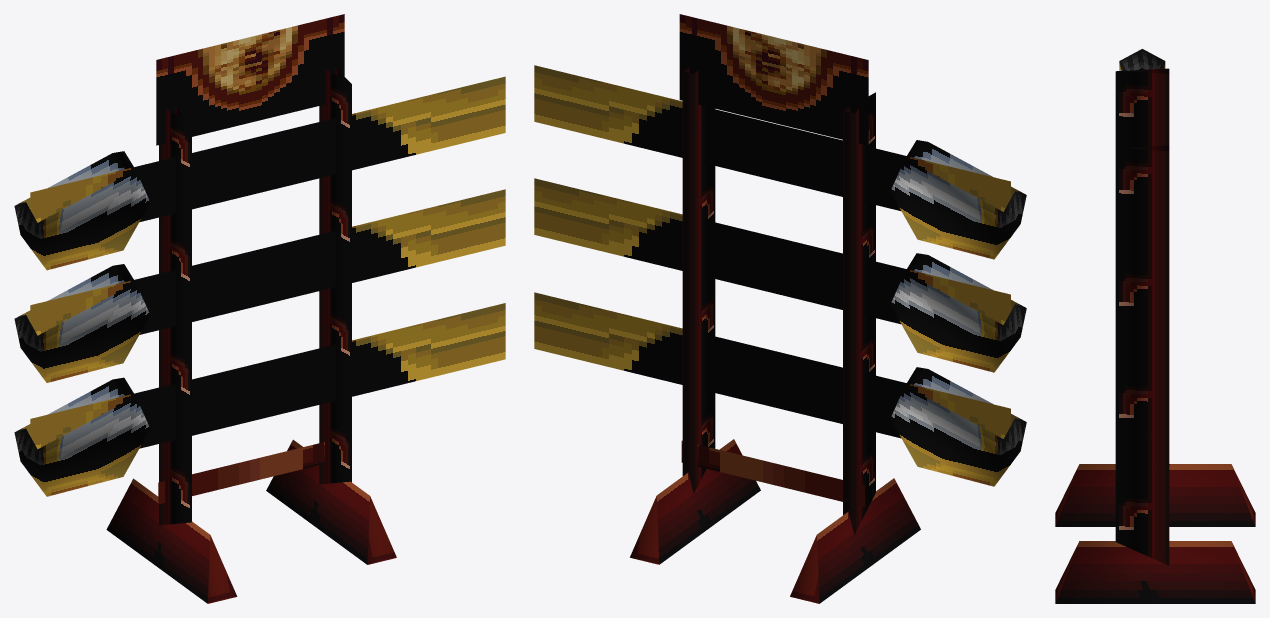
3 renders of one model, left to right at view 1: azimuth 30°, elevation 25°; view 2: azimuth 150°, elevation 25°; view 3: azimuth 270°, elevation 25°, orthographic.
Parts seen in each view (by area): view 1: 3326IMIG10_05; view 2: 3326IMIG10_05; view 3: 3326IMIG10_05.
Part boxes in pixels (x1=…): 3326IMIG10_05: x1=14, y1=14, x2=505, y2=603; 3326IMIG10_05: x1=534, y1=14, x2=1026, y2=603; 3326IMIG10_05: x1=1055, y1=49, x2=1255, y2=603.
Bounding box in the file's own units: 1.54 × 1.54 × 0.5586.
Materials: 3 (3 with a texture image).
